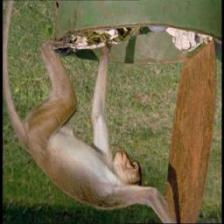monkey: (100, 144, 148, 198)
